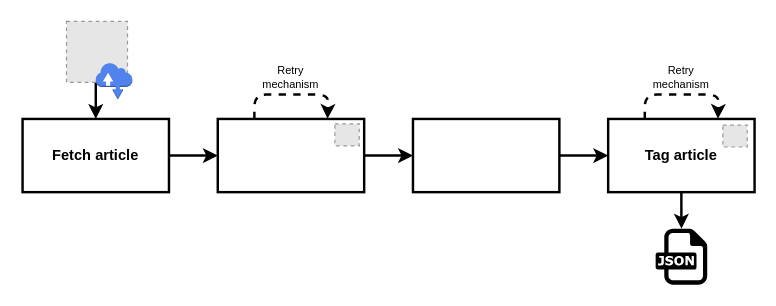
Some shapes in this 776 by 306 pixel diagram are drawn without their labels. Grey dashed boxes stand in for pictures. Each missing label, with the box of its shape:
Extract basic metadata DOI, Title...: (216, 117, 365, 193)
Fetch advanced metadata Abstract, authors, etc.: (411, 117, 560, 193)
